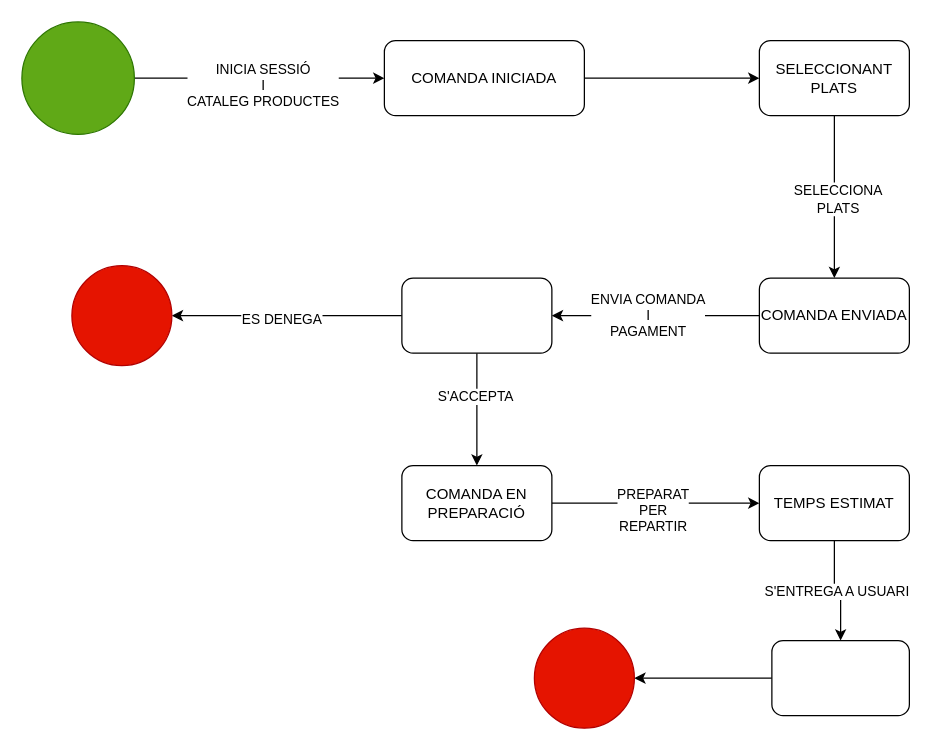
The diagram is 931 pixels wide and 750 high, and some of its shapes have lost their labels. The box of each missing label's shape, as (x1, y1, x2, y2) in pixels:
ENTREGAT: (771, 639, 909, 716)
ESPERANT ACCEPTACIÓ: (401, 277, 552, 353)
